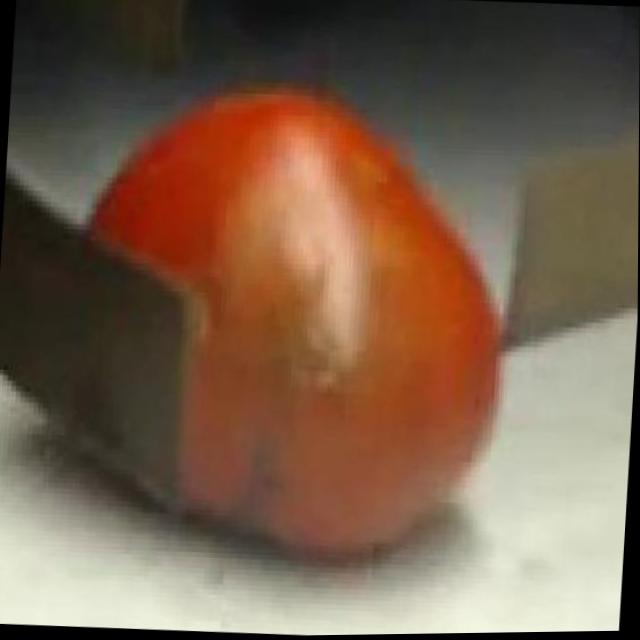tomato: (70, 84, 516, 568)
